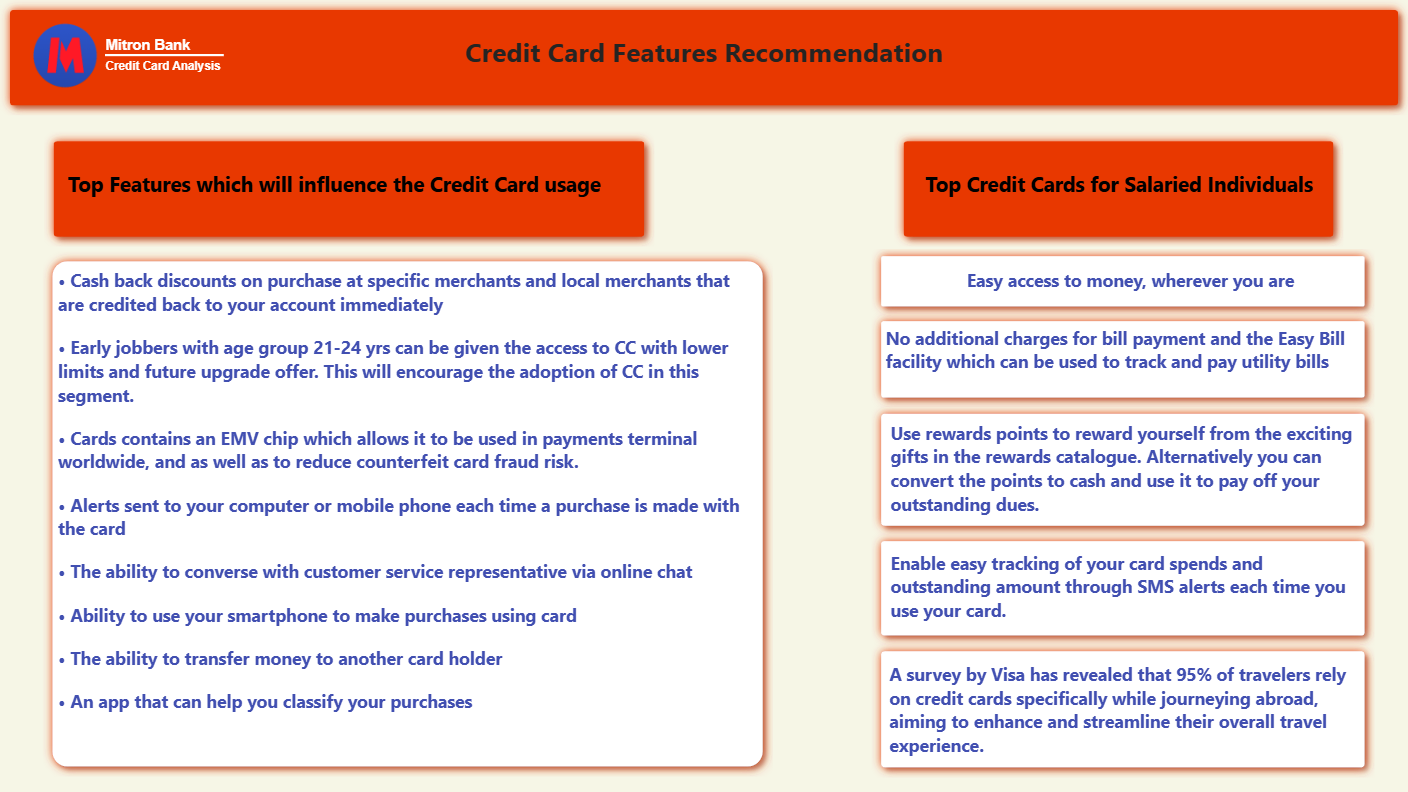

What the dashboard file says about the page in this screenshot:
{"tool":"powerbi","page":{"name":"Credit Card Feature Recomendation","canvas":[1280,720],"ordinal":3},"visuals":[{"type":"shape","box":[0,0,1280,105],"z":0},{"type":"image","box":[28,20,61.2,60],"z":1000},{"type":"textbox","box":[90.8,26.7,143.3,64.4],"z":2000},{"type":"shape","box":[95.4,7.2,108.1,86.5],"z":3000},{"type":"textbox","box":[216.2,26.2,848.8,53.8],"z":4000},{"type":"shape","box":[40,118.8,555,105],"z":5000},{"type":"shape","box":[812.5,118.8,408.8,105],"z":6000},{"type":"textbox","box":[56.2,150,521.2,43.8],"z":7000},{"type":"textbox","box":[836.2,150,362.5,47.5],"z":8000},{"type":"shape","box":[38.8,228.8,663.8,477.5],"z":9000},{"type":"textbox","box":[47.5,238.8,642.5,456.2],"z":10000},{"type":"shape","box":[792.5,223.8,457.5,63.8],"z":11000},{"type":"textbox","box":[873.8,238.8,311.2,37.5],"z":12000},{"type":"shape","box":[792.5,366.9,457.5,120],"z":13000},{"type":"textbox","box":[805,377.5,433.8,98.8],"z":14000},{"type":"shape","box":[792.5,482.8,457.5,103.8],"z":15000},{"type":"textbox","box":[805,495,437.5,80],"z":16000},{"type":"shape","box":[792.5,283.4,457.5,87.5],"z":17000},{"type":"textbox","box":[800,291.2,442.5,76.2],"z":18000},{"type":"shape","box":[792.5,582.5,457.5,123.8],"z":19000},{"type":"textbox","box":[803.8,596.2,437.5,97.5],"z":20000}]}

Visuals, with their boxes in screenshot pixels (x1, y1, x2, y2), scaled from the page's 1280x720 canvas onto the 1408x792 screenshot:
shape: select_region(0, 0, 1407, 116)
image: select_region(31, 22, 98, 88)
textbox: select_region(100, 29, 258, 100)
shape: select_region(105, 8, 224, 103)
textbox: select_region(238, 29, 1172, 88)
shape: select_region(44, 131, 654, 246)
shape: select_region(894, 131, 1343, 246)
textbox: select_region(62, 165, 635, 213)
textbox: select_region(920, 165, 1319, 217)
shape: select_region(43, 252, 773, 777)
textbox: select_region(52, 263, 759, 765)
shape: select_region(872, 246, 1375, 316)
textbox: select_region(961, 263, 1304, 304)
shape: select_region(872, 404, 1375, 536)
textbox: select_region(886, 415, 1363, 524)
shape: select_region(872, 531, 1375, 645)
textbox: select_region(886, 544, 1367, 632)
shape: select_region(872, 312, 1375, 408)
textbox: select_region(880, 320, 1367, 404)
shape: select_region(872, 641, 1375, 777)
textbox: select_region(884, 656, 1365, 763)
